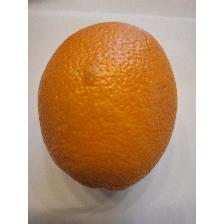Orange: (32, 19, 180, 195)
